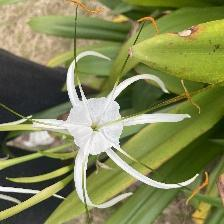spider lily: (57, 75, 204, 209)
